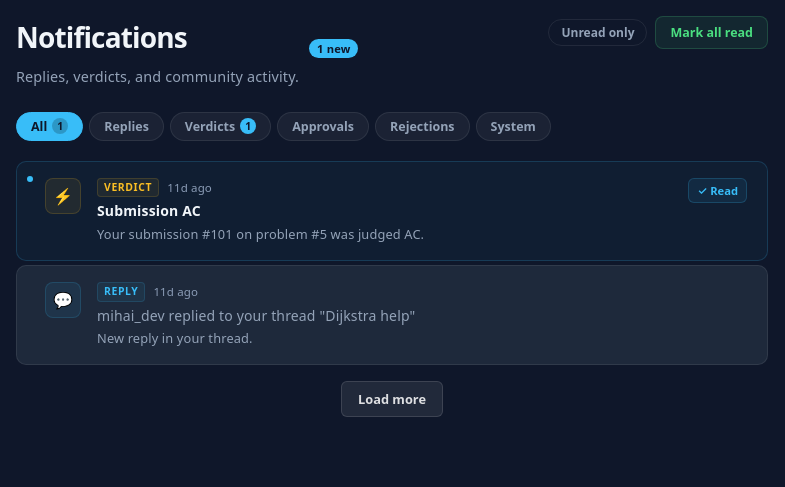
Test: NotificationsPage (live events) › loads the next cursor page on Load more
expect the text "Submission AC" is shown: met, box [97, 201, 201, 220]
What coordinates should you click on to do the following:
click the button "Load more"
I would click on:
 (392, 399)
Its box is [341, 381, 443, 417].
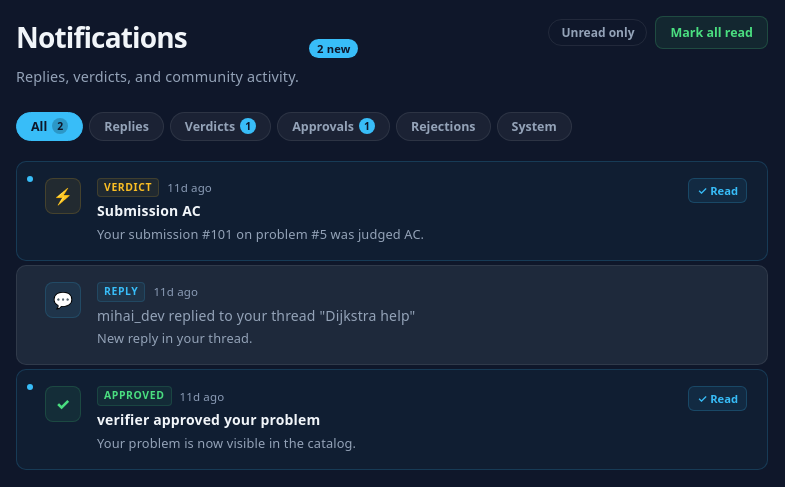
expect the text "verifier approved your problem" is shown: met, box [97, 410, 320, 429]
